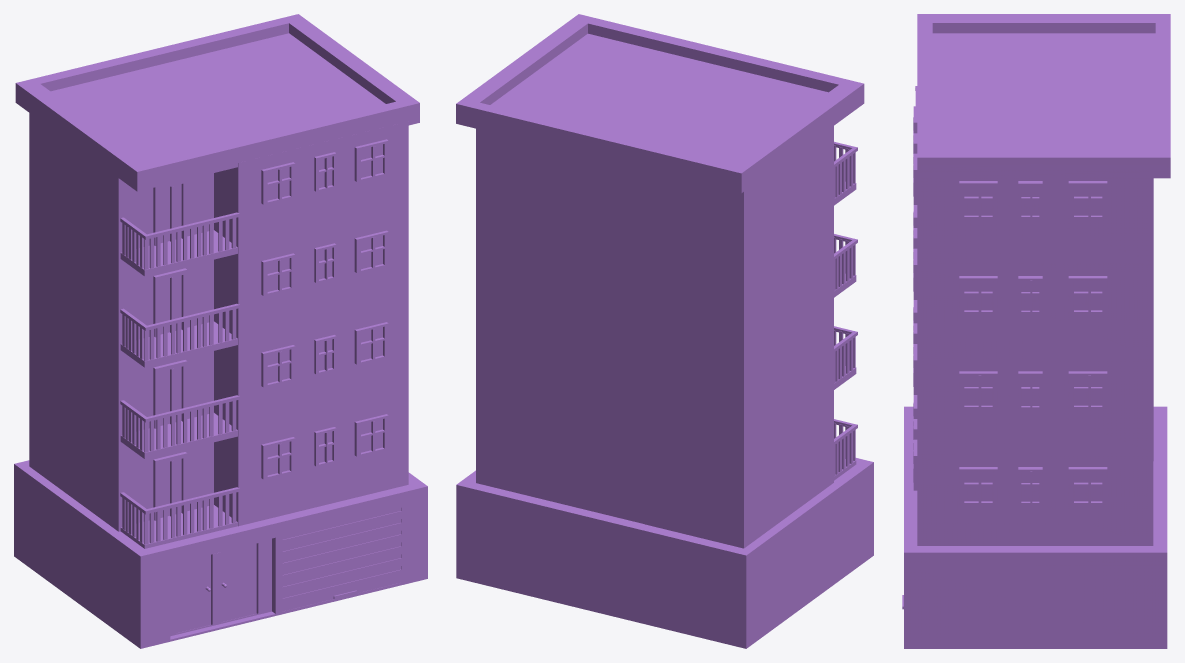
Rendered from 3d_building_purple.gltf.
3 renders of one model, left to right at view 1: azimuth 30°, elevation 25°; view 2: azimuth 150°, elevation 25°; view 3: azimuth 270°, elevation 25°, orthographic. The views are drawn at different scales.
Parts seen in each view (by area): view 1: pasted__pasted__pasted__pCube30 pasted__pasted__group pasted, pasted__pasted__floor_01 pasted__group group22 pasted__paste (×6), pasted__pasted__pasted__floor_01 pasted__pasted__group paste (×6), ground pasted__pCube30 pasted__floor01, pasted__floor_01 ex02_group pasted__floor01 pasted__pasted__ (×3), pasted__floor_01 ex02_group pasted__floor01 pasted__pCube30, floor_01 floor01 pCube30, floor_01 floor01 pasted__pCube30 group, ground pasted__pCube33 pasted__floor02, pasted__floor_01 ex02_group pasted__floor01 pasted__pCube33, floor_01 floor01 pCube33, pasted__pasted__pCube34 pasted__group27 group28 (+14 smaller); view 2: pasted__pasted__pasted__pCube30 pasted__pasted__group pasted, ground pasted__pCube30 pasted__floor01, pasted__pasted__floor_01 pasted__group group22 pasted__paste (×2), pasted__pasted__pasted__floor_01 pasted__pasted__group paste (×2), pasted__floor_01 ex02_group pasted__floor01 pasted__pasted__, floor_01 floor01 pasted__pCube30 group, pasted__floor_01 ex02_group pasted__floor01 pasted__pCube30, floor_01 floor01 pCube30; view 3: pasted__pasted__pasted__pCube30 pasted__pasted__group pasted, ground pasted__pCube30 pasted__floor01, pasted__pasted__floor_01 pasted__group group22 pasted__paste (×4), pasted__pasted__pasted__floor_01 pasted__pasted__group paste (×4), pasted__floor_01 ex02_group pasted__floor01 pasted__pCube30, floor_01 floor01 pCube30, pasted__floor_01 ex02_group pasted__pasted__pasted__pasted__ (×3), floor_01 pasted__pasted__pasted__pasted__pCube33, floor_01 pasted__pasted__pasted__pCube33, floor_01 pasted__pasted__pasted__pCube34.
Boxes of the visible parts, <box> form: pasted__pasted__pasted__pCube30 pasted__pasted__group pasted: <box>15,14,419,191</box>; pasted__pasted__floor_01 pasted__group group22 pasted__paste (×6): <box>29,193,408,367</box>; pasted__pasted__pasted__floor_01 pasted__pasted__group paste (×6): <box>29,113,408,276</box>; ground pasted__pCube30 pasted__floor01: <box>14,460,427,648</box>; pasted__floor_01 ex02_group pasted__floor01 pasted__pasted__ (×3): <box>29,285,295,458</box>; pasted__floor_01 ex02_group pasted__floor01 pasted__pCube30: <box>214,304,408,437</box>; floor_01 floor01 pCube30: <box>214,396,408,526</box>; floor_01 floor01 pasted__pCube30 group: <box>29,377,213,531</box>; ground pasted__pCube33 pasted__floor02: <box>170,538,271,636</box>; pasted__floor_01 ex02_group pasted__floor01 pasted__pCube33: <box>153,360,187,428</box>; floor_01 floor01 pCube33: <box>153,452,187,520</box>; pasted__pasted__pCube34 pasted__group27 group28: <box>282,542,401,582</box>; pasted__pasted__pasted__pCube30 pasted__pasted__group pasted: <box>456,14,864,193</box>; ground pasted__pCube30 pasted__floor01: <box>456,458,873,648</box>; pasted__pasted__floor_01 pasted__group group22 pasted__paste (×2): <box>476,206,833,365</box>; pasted__pasted__pasted__floor_01 pasted__pasted__group paste (×2): <box>476,126,833,273</box>; pasted__floor_01 ex02_group pasted__floor01 pasted__pasted__: <box>644,299,833,457</box>; floor_01 floor01 pasted__pCube30 group: <box>644,392,833,548</box>; pasted__floor_01 ex02_group pasted__floor01 pasted__pCube30: <box>476,301,644,435</box>; floor_01 floor01 pCube30: <box>476,393,644,523</box>; pasted__pasted__pasted__pCube30 pasted__pasted__group pasted: <box>917,14,1170,178</box>; ground pasted__pCube30 pasted__floor01: <box>904,406,1167,648</box>; pasted__pasted__floor_01 pasted__group group22 pasted__paste (×4): <box>917,263,1153,359</box>; pasted__pasted__pasted__floor_01 pasted__pasted__group paste (×4): <box>917,178,1153,264</box>; pasted__floor_01 ex02_group pasted__floor01 pasted__pCube30: <box>917,358,1153,454</box>; floor_01 floor01 pCube30: <box>917,454,1153,545</box>; pasted__floor_01 ex02_group pasted__pasted__pasted__pasted__ (×3): <box>959,371,1107,408</box>; floor_01 pasted__pasted__pasted__pasted__pCube33: <box>1068,467,1107,504</box>; floor_01 pasted__pasted__pasted__pCube33: <box>959,467,997,504</box>; floor_01 pasted__pasted__pasted__pCube34: <box>1018,467,1042,504</box>.
Bounding box in the file's own units: 22.11 × 34.91 × 17.16.
